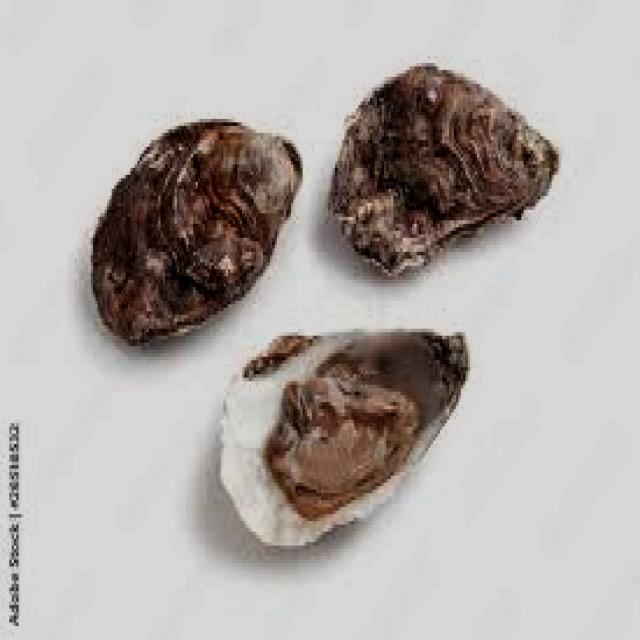Oyster-Closed: (330, 64, 558, 274), (92, 120, 301, 344)
Oyster-Open: (221, 331, 468, 546)
